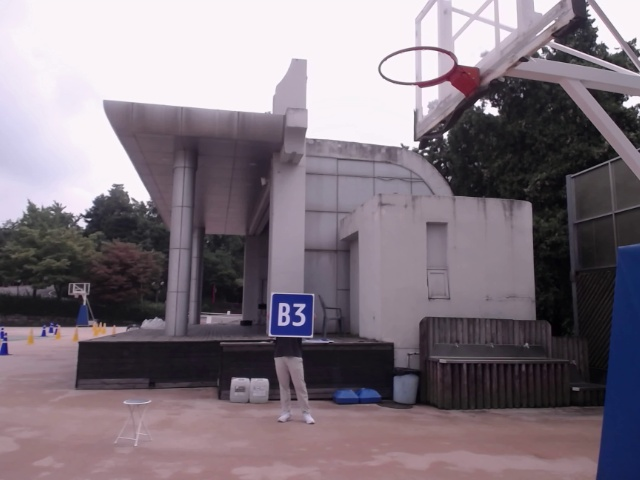delivery_b3: (271, 295, 314, 337)
